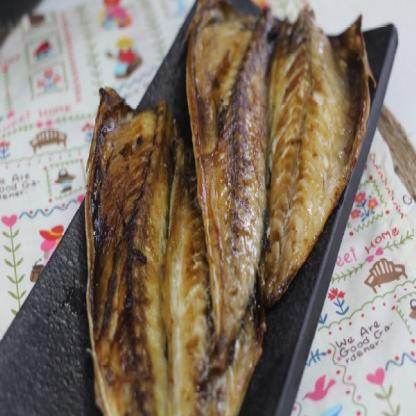Peixe: (71, 0, 383, 416)
